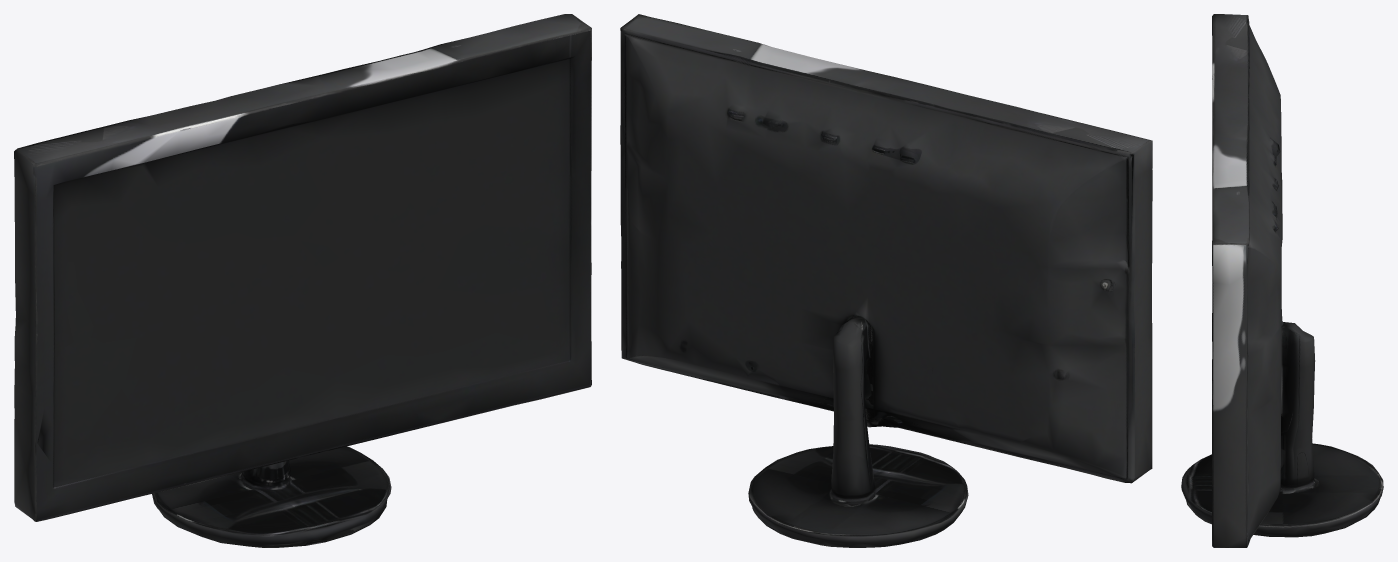
3 renders of one model, left to right at view 1: azimuth 30°, elevation 25°; view 2: azimuth 150°, elevation 25°; view 3: azimuth 270°, elevation 25°, orthographic. The views are drawn at different scales.
Parts seen in each view (by area): view 1: input; view 2: input; view 3: input.
Part boxes in pixels (x1,y1,x2,y2): input: (14, 14, 591, 547); input: (620, 14, 1152, 547); input: (1181, 14, 1383, 547).
Bounding box in the file's own units: 201 × 150 × 74.17.
Materials: 1 (1 with a texture image).
